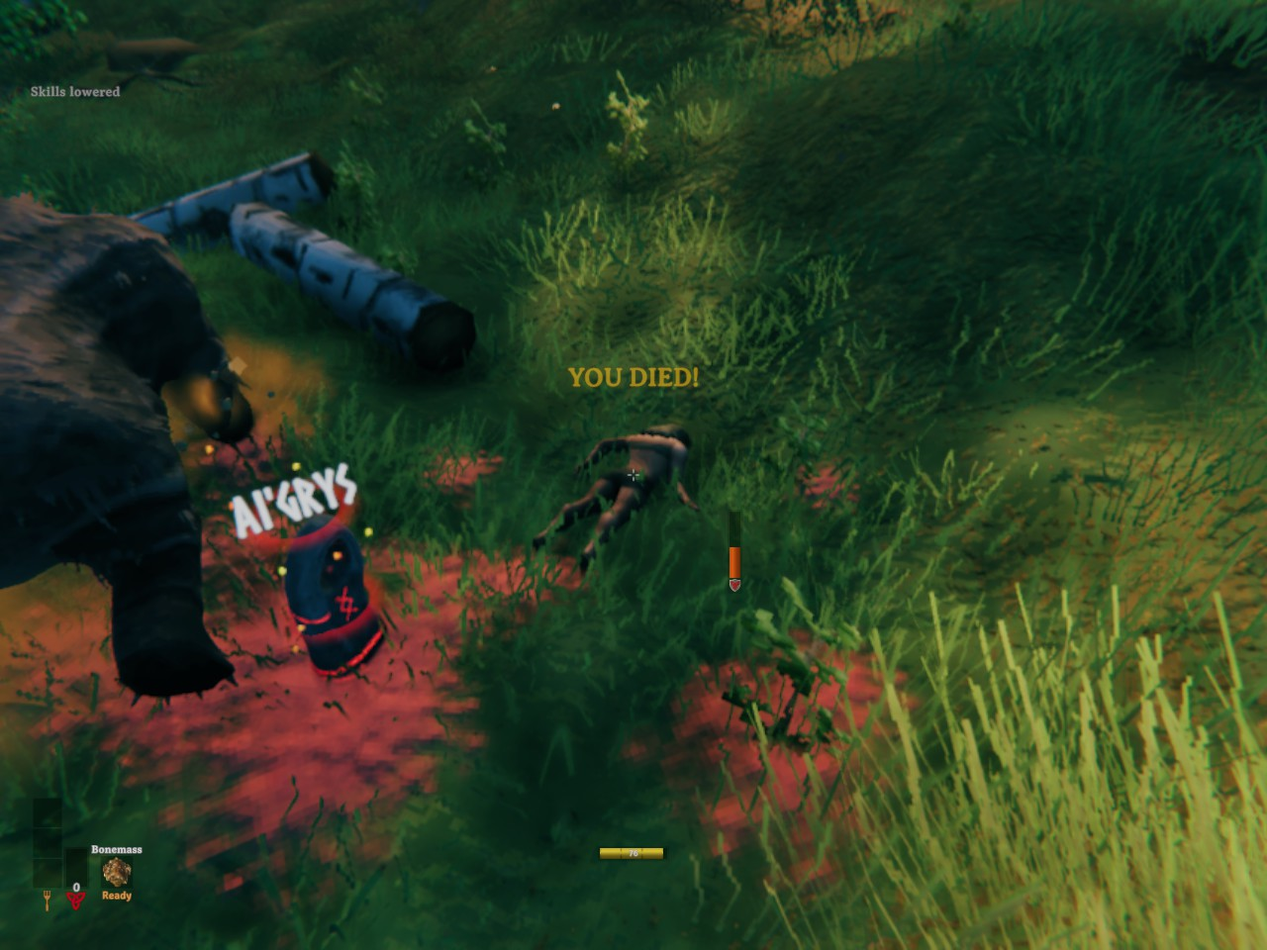Bear: (0, 195, 252, 697)
Gravestone: (284, 515, 381, 676)
